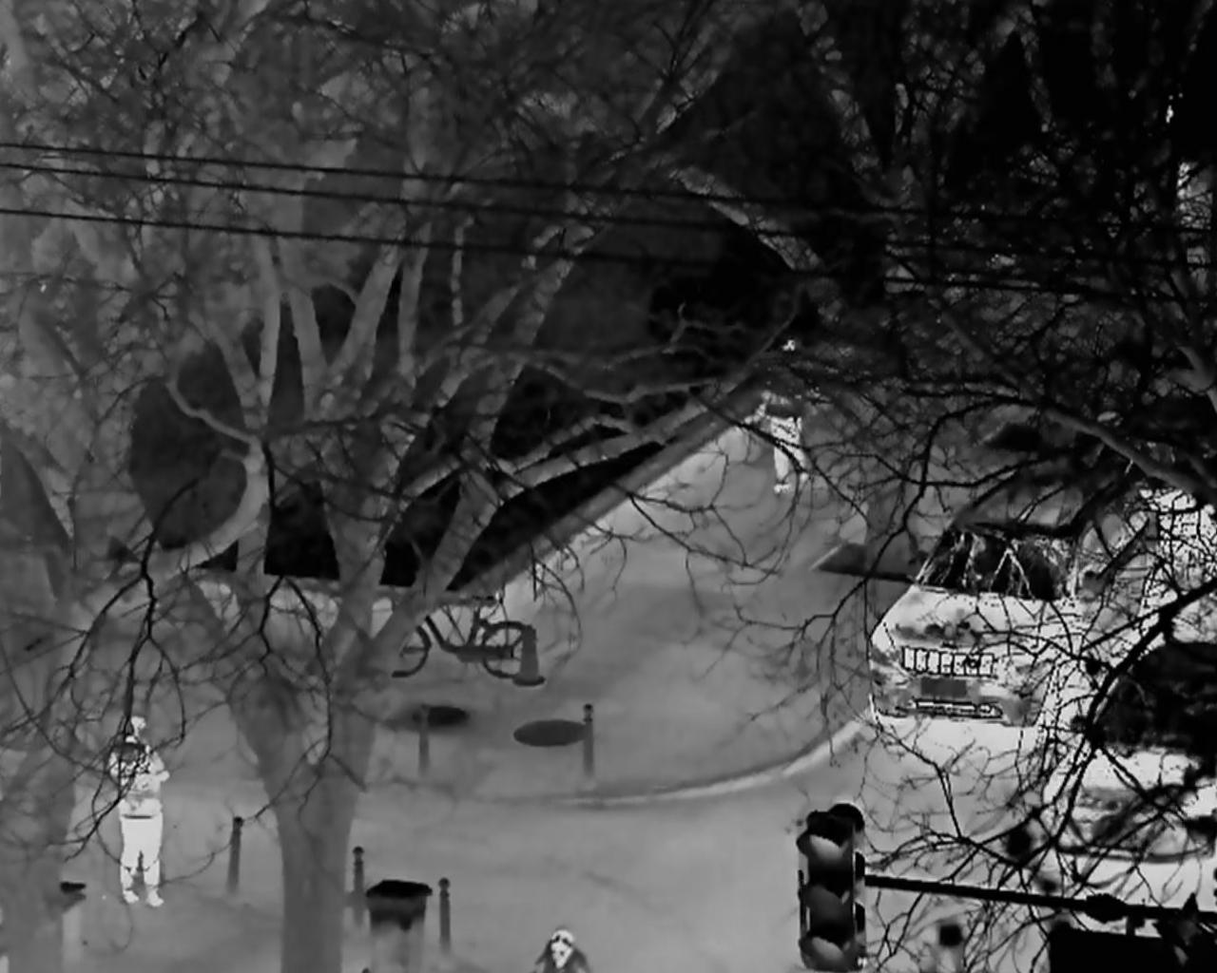person: (105, 713, 172, 908), (742, 389, 817, 491)
